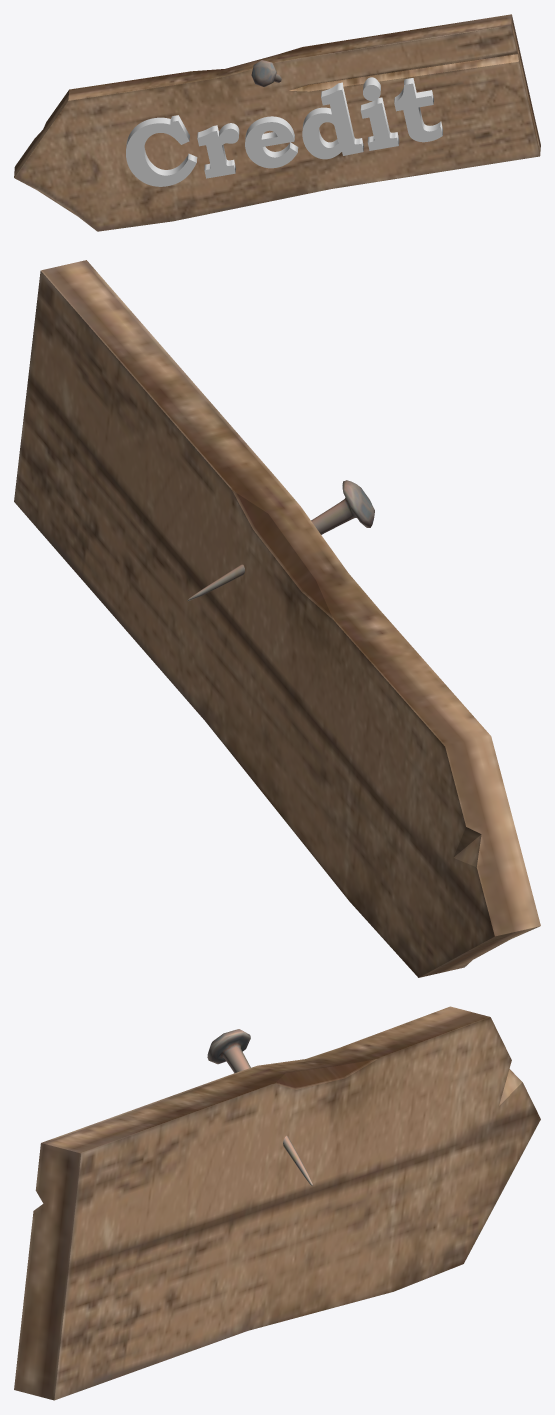
The model's file is sign_credit.glb.
3 renders of one model, top to bottom at view 1: azimuth 30°, elevation 25°; view 2: azimuth 150°, elevation 25°; view 3: azimuth 270°, elevation 25°, orthographic. The views are drawn at different scales.
Parts seen in each view (by area): view 1: defaultMaterial.029, Text.002, nail.003; view 2: defaultMaterial.029, nail.003; view 3: defaultMaterial.029, nail.003.
Part boxes in pixels (bbox=[...]): defaultMaterial.029: bbox=[14, 14, 540, 231]; Text.002: bbox=[126, 77, 442, 186]; nail.003: bbox=[251, 60, 281, 87]; defaultMaterial.029: bbox=[14, 260, 540, 977]; nail.003: bbox=[187, 480, 374, 601]; defaultMaterial.029: bbox=[14, 1006, 540, 1400]; nail.003: bbox=[207, 1029, 312, 1185].
Bounding box in the file's own units: 0.8322 × 0.421 × 0.5419.
2 materials, 2 textured.
